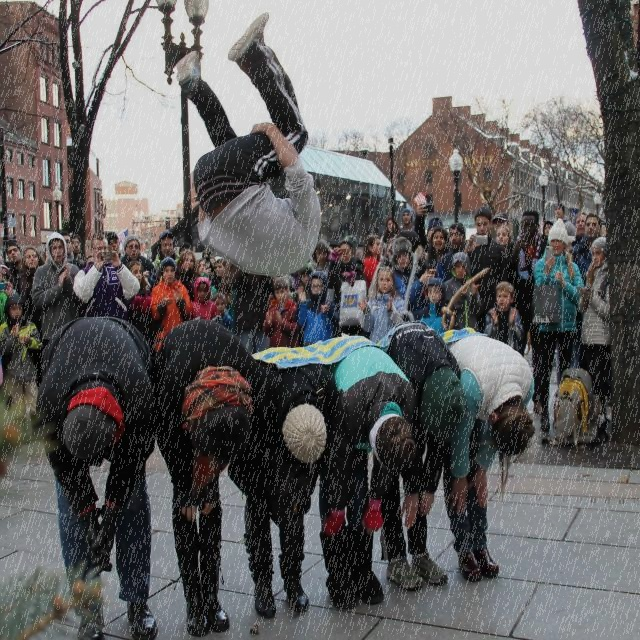pessoa: (172, 9, 326, 283), (34, 312, 162, 640), (144, 316, 270, 639), (224, 344, 342, 620), (318, 336, 418, 612), (438, 327, 536, 584), (375, 320, 467, 590), (531, 218, 586, 434), (506, 210, 548, 416), (0, 293, 44, 438), (576, 236, 614, 402), (72, 232, 140, 318), (32, 231, 82, 345), (458, 206, 508, 312), (15, 246, 48, 390), (326, 239, 370, 339), (150, 256, 192, 360), (358, 266, 406, 344), (390, 235, 438, 312), (232, 268, 274, 356), (93, 232, 133, 323), (297, 270, 340, 346), (443, 251, 483, 332), (484, 280, 524, 352), (569, 212, 605, 287), (262, 277, 300, 348), (408, 276, 451, 336), (436, 222, 476, 284), (118, 234, 160, 292), (368, 237, 396, 300), (412, 202, 443, 254), (151, 230, 182, 282), (186, 276, 219, 324), (125, 260, 152, 315), (362, 233, 383, 290), (1, 264, 20, 324), (58, 231, 86, 271), (307, 240, 334, 278), (549, 202, 577, 238), (288, 264, 314, 302), (210, 290, 233, 332), (196, 258, 218, 301), (379, 216, 402, 257), (6, 241, 24, 291), (394, 228, 422, 260), (494, 224, 516, 261), (344, 236, 364, 272), (69, 234, 87, 272), (213, 257, 230, 293), (570, 212, 586, 246), (491, 212, 509, 240), (427, 217, 443, 241), (400, 208, 414, 232), (84, 253, 95, 269), (542, 220, 552, 237), (179, 243, 194, 254), (200, 251, 212, 264), (357, 246, 365, 259), (0, 252, 4, 266)
